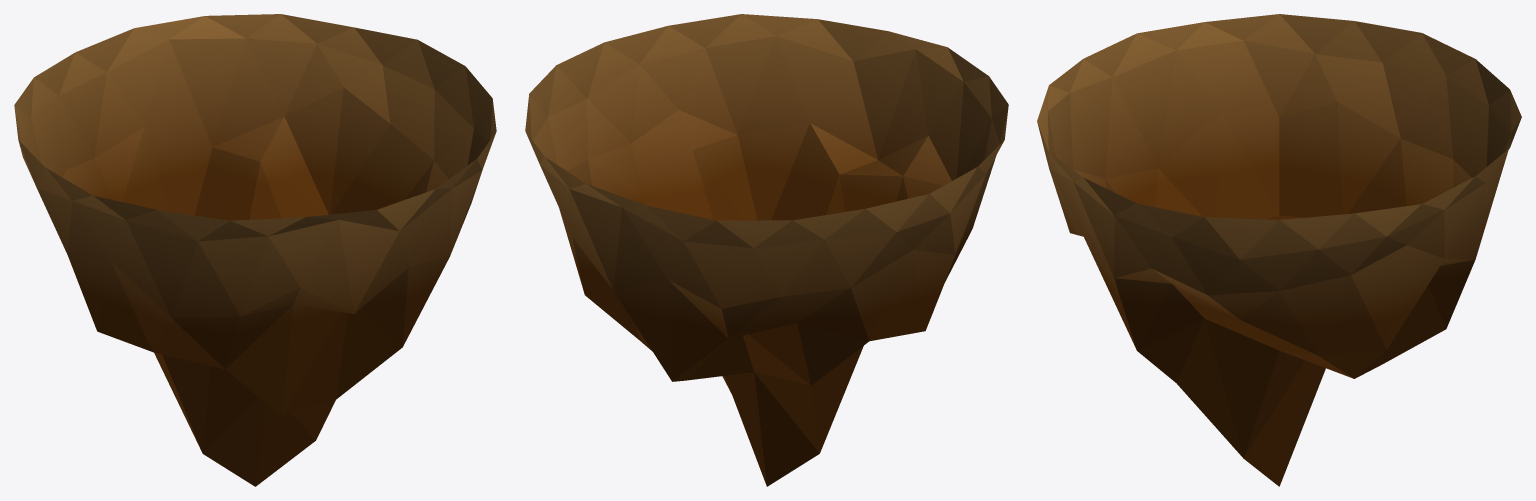
File: Islandbott.fbx
3 renders of one model, left to right at view 1: azimuth 30°, elevation 25°; view 2: azimuth 150°, elevation 25°; view 3: azimuth 270°, elevation 25°, orthographic.
Visible parts, largest first — view 1: Icosphere; view 2: Icosphere; view 3: Icosphere.
Boxes of the visible parts, bbox=[...] form: Icosphere: bbox=[14, 14, 496, 486]; Icosphere: bbox=[525, 14, 1008, 486]; Icosphere: bbox=[1037, 14, 1521, 486].
Size of the model in its own units: 1976 by 1669 by 1976.
Materials: 1 (1 with a texture image).
